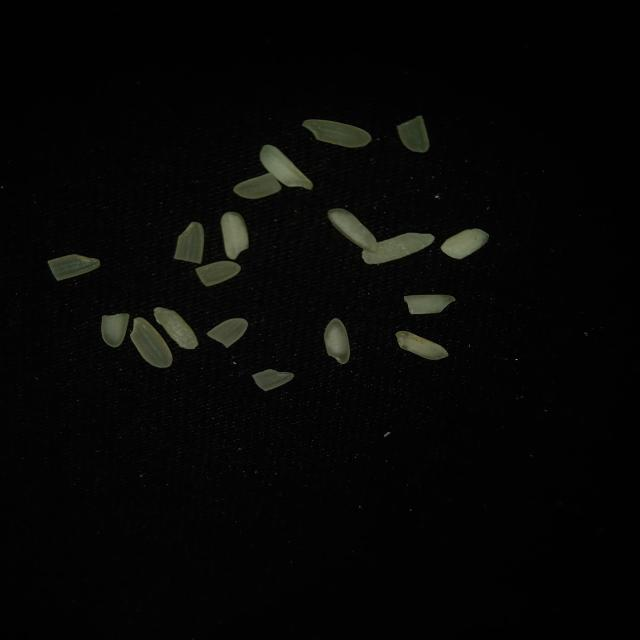Broken: (440, 228, 489, 260), (48, 254, 100, 281), (173, 222, 204, 264), (233, 173, 282, 199), (206, 318, 248, 348), (396, 115, 429, 153), (196, 261, 241, 287), (101, 313, 130, 348), (404, 295, 455, 314), (252, 369, 294, 391)
Full: (260, 144, 313, 190), (327, 208, 379, 254), (362, 232, 434, 264), (130, 317, 173, 368), (302, 119, 372, 147), (154, 306, 198, 349), (396, 331, 448, 360), (221, 212, 249, 260), (324, 318, 350, 364)
